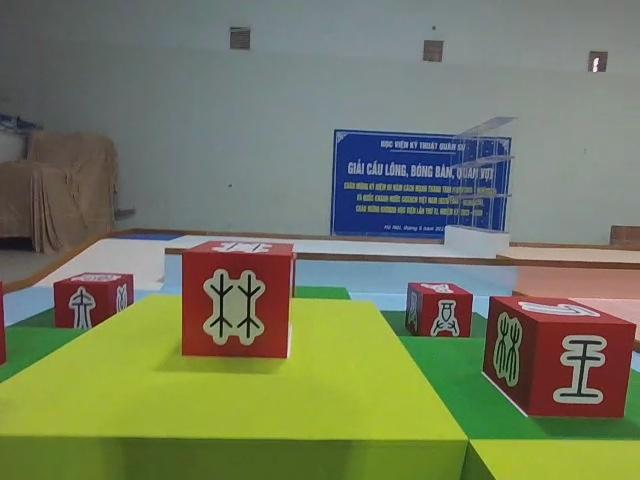R2 Fake: (479, 291, 638, 419), (51, 269, 136, 335)
R2 Real: (179, 237, 298, 362), (402, 279, 475, 342)
